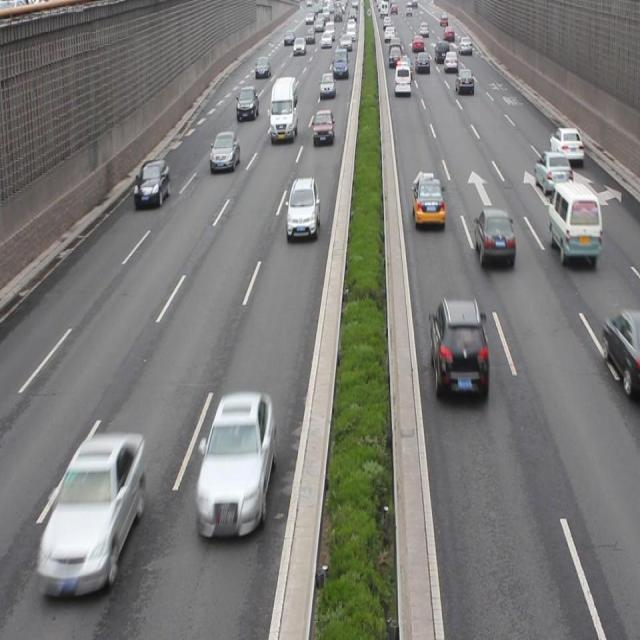car: (35, 429, 147, 593), (193, 388, 275, 541), (429, 296, 486, 406), (601, 306, 640, 396), (474, 205, 514, 271), (286, 176, 319, 242), (533, 150, 570, 196), (410, 176, 443, 226), (548, 125, 582, 168), (134, 162, 169, 203), (208, 130, 239, 170), (235, 85, 258, 124), (312, 110, 334, 144)
truck: (547, 178, 601, 268), (269, 77, 298, 141)
